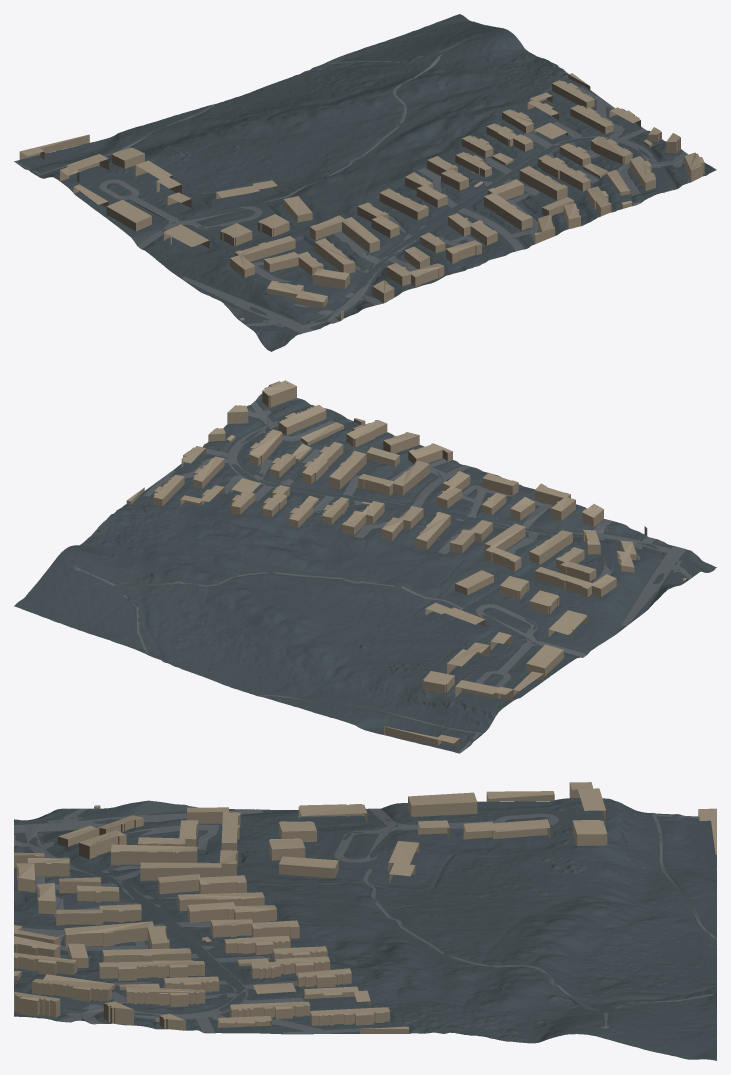
Rendered from epsg26910-1421-10892.lod0.glb.
3 renders of one model, top to bottom at view 1: azimuth 30°, elevation 25°; view 2: azimuth 150°, elevation 25°; view 3: azimuth 270°, elevation 25°, orthographic. The views are drawn at different scales.
Visible parts, largest first — view 1: epsg26910-1421-10892-lod0; view 2: epsg26910-1421-10892-lod0; view 3: epsg26910-1421-10892-lod0.
Boxes of the visible parts, x1=… form: epsg26910-1421-10892-lod0: x1=14, y1=14, x2=716, y2=351; epsg26910-1421-10892-lod0: x1=14, y1=380, x2=716, y2=753; epsg26910-1421-10892-lod0: x1=14, y1=782, x2=716, y2=1060.
Bounding box in the file's own units: 384 × 68.1 × 384.
